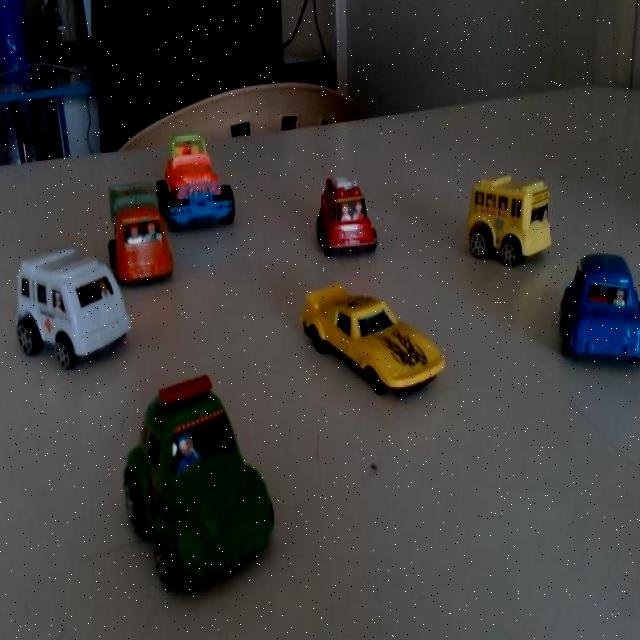car: (109, 378, 271, 573), (296, 271, 443, 407), (9, 232, 132, 383), (556, 246, 640, 380), (457, 172, 548, 276), (161, 124, 246, 231), (105, 171, 172, 288), (304, 165, 376, 269)
